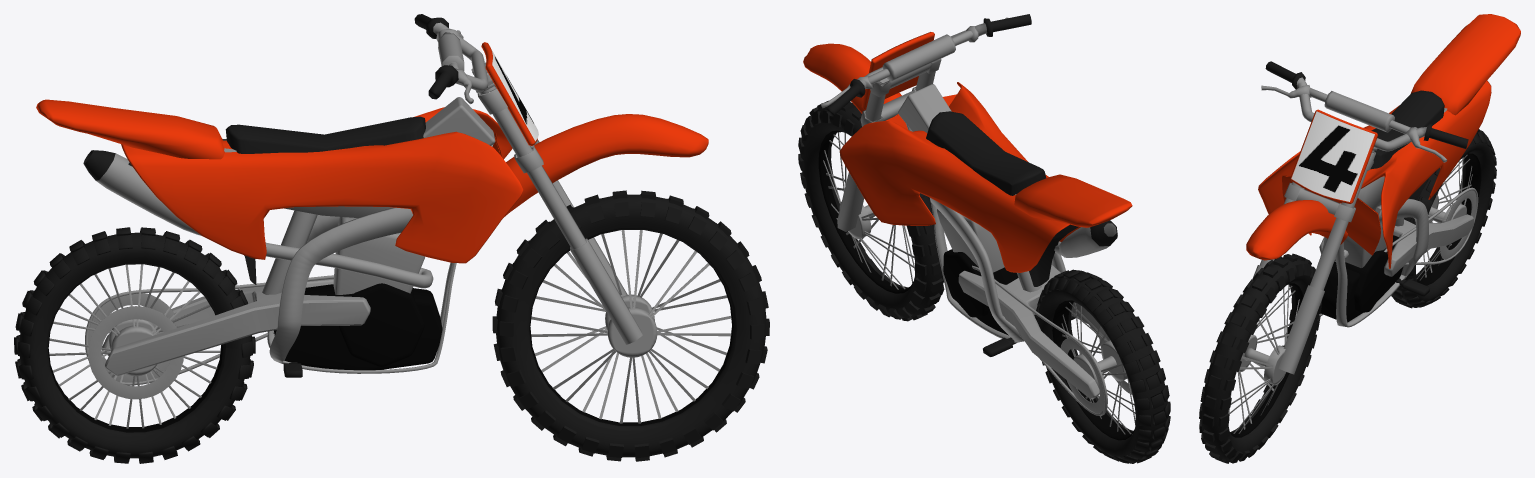
The model's file is bike_lo.glb.
3 views of the same model, side by side, from view 1: azimuth 30°, elevation 25°; view 2: azimuth 150°, elevation 25°; view 3: azimuth 270°, elevation 25° (orthographic). The views are drawn at different scales.
Parts seen in each view (by area): view 1: Body_GEO, FrontWheel_GEO, RearWheel_GEO, Engine_GEO, Handle_GEO, RearWheelChain_GEO, FrontShock_GEO; view 2: Body_GEO, RearWheel_GEO, FrontWheel_GEO, Handle_GEO, Engine_GEO, RearWheelChain_GEO, FrontShock_GEO; view 3: Body_GEO, Handle_GEO, FrontWheel_GEO, RearWheel_GEO, Engine_GEO, RearWheelChain_GEO, FrontShock_GEO.
Part boxes in pixels (x1=…): Body_GEO: x1=36, y1=97, x2=523, y2=294; FrontWheel_GEO: x1=492, y1=190, x2=769, y2=461; RearWheel_GEO: x1=14, y1=227, x2=255, y2=463; Engine_GEO: x1=83, y1=144, x2=493, y2=377; Handle_GEO: x1=414, y1=14, x2=708, y2=249; RearWheelChain_GEO: x1=85, y1=275, x2=370, y2=385; FrontShock_GEO: x1=570, y1=237, x2=642, y2=344; Body_GEO: x1=839, y1=82, x2=1132, y2=292; RearWheel_GEO: x1=1035, y1=269, x2=1170, y2=463; FrontWheel_GEO: x1=798, y1=100, x2=944, y2=321; Handle_GEO: x1=803, y1=14, x2=1031, y2=126; Engine_GEO: x1=906, y1=124, x2=1117, y2=356; RearWheelChain_GEO: x1=958, y1=264, x2=1110, y2=416; FrontShock_GEO: x1=837, y1=172, x2=864, y2=231; Body_GEO: x1=1258, y1=14, x2=1520, y2=268; Handle_GEO: x1=1246, y1=61, x2=1468, y2=290; FrontWheel_GEO: x1=1199, y1=253, x2=1321, y2=463; RearWheel_GEO: x1=1391, y1=129, x2=1496, y2=308; Engine_GEO: x1=1317, y1=198, x2=1430, y2=327; RearWheelChain_GEO: x1=1384, y1=187, x2=1478, y2=276; FrontShock_GEO: x1=1252, y1=265, x2=1324, y2=374.
Bounding box in the file's own units: 1.88 × 1.24 × 1.12.
Materials: 5 (1 with a texture image).
